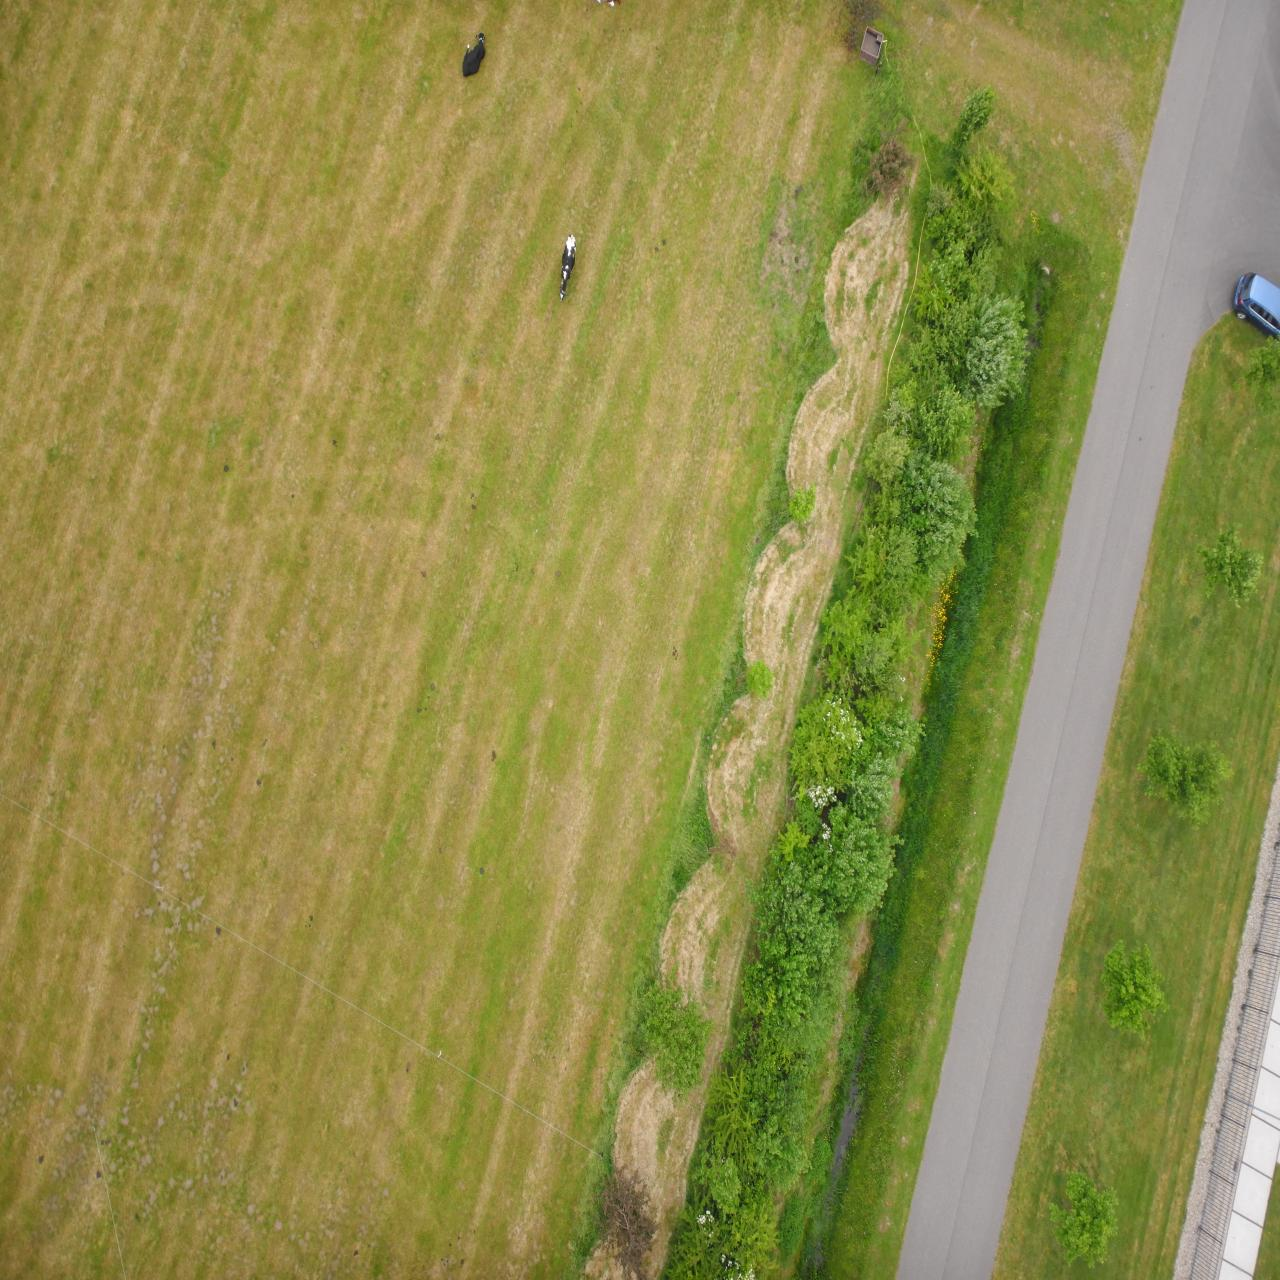cow: (704, 978, 721, 1046), (795, 1203, 818, 1246)
